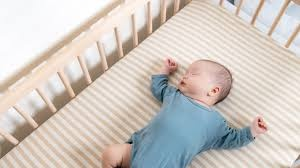baby: (102, 58, 266, 167)
crib: (0, 0, 299, 167)
